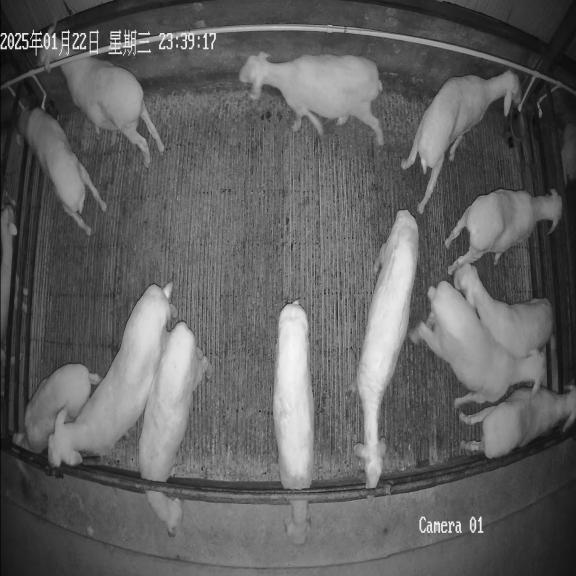drinking: (16, 108, 106, 235)
eating: (139, 321, 213, 537), (273, 301, 314, 544)
stand: (48, 282, 178, 467), (352, 210, 418, 489), (39, 25, 164, 168), (401, 70, 521, 213), (410, 281, 544, 407), (239, 53, 383, 146), (445, 189, 562, 274), (454, 264, 553, 358), (460, 386, 576, 458), (13, 363, 102, 453)
